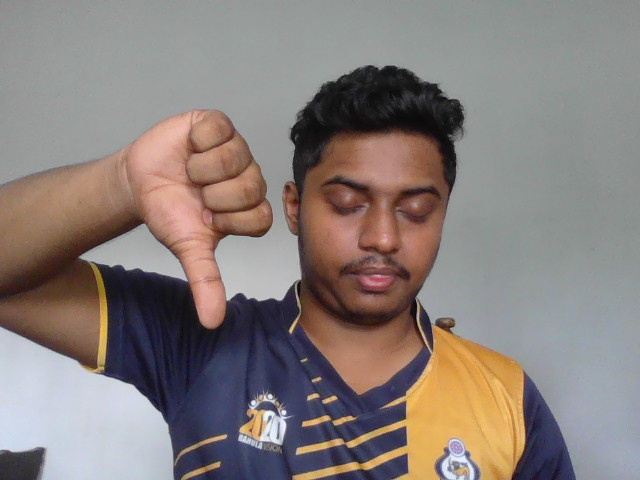Disagree: (125, 106, 277, 332)
